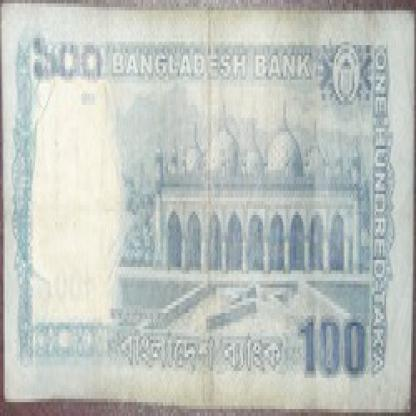one hundred taka: (293, 298, 369, 385), (28, 35, 110, 94)
